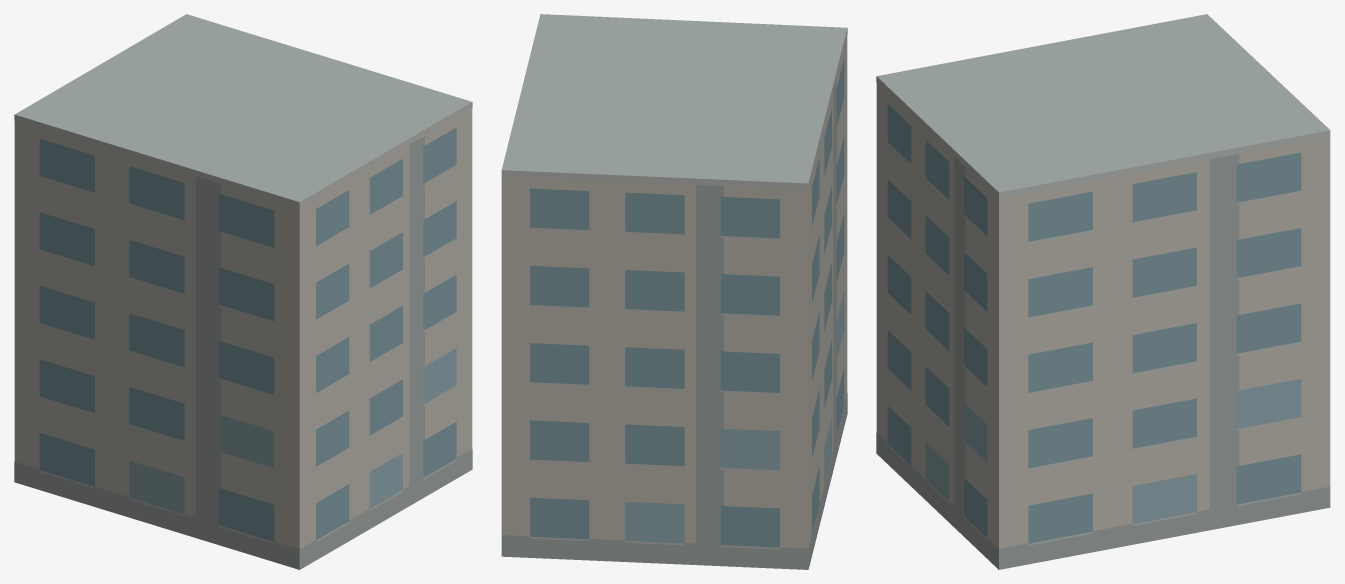
File: survey-upis-32538091.glb
The picture shows the model from 3 angles, left to right: view 1: azimuth 30°, elevation 25°; view 2: azimuth 150°, elevation 25°; view 3: azimuth 270°, elevation 25°; orthographic projection. The views are drawn at different scales.
Visible parts, largest first — view 1: survey-upis-32538091.tmp; view 2: survey-upis-32538091.tmp; view 3: survey-upis-32538091.tmp.
Part boxes in pixels (<box>): survey-upis-32538091.tmp: <box>14,14,472,569</box>; survey-upis-32538091.tmp: <box>501,14,847,569</box>; survey-upis-32538091.tmp: <box>876,14,1330,569</box>.
Bounding box in the file's own units: 14.52 × 14.3 × 15.6.
